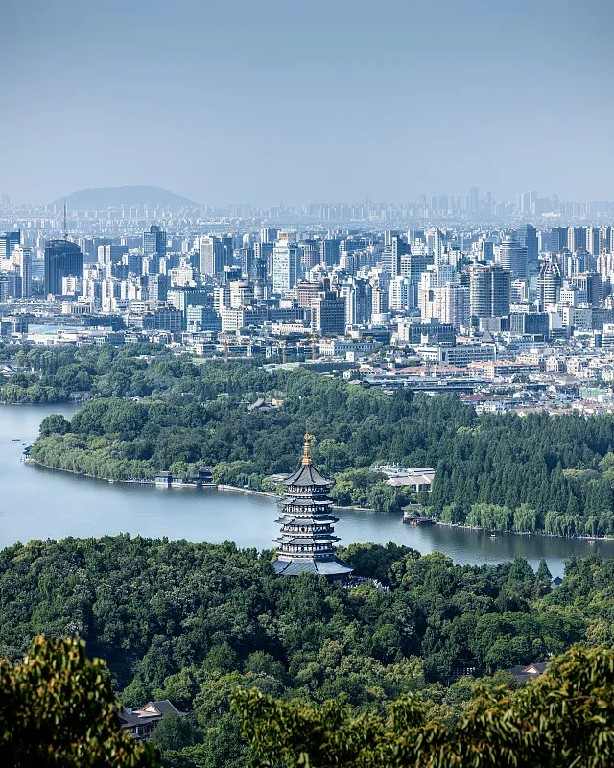Leifeng: (270, 421, 353, 589)
